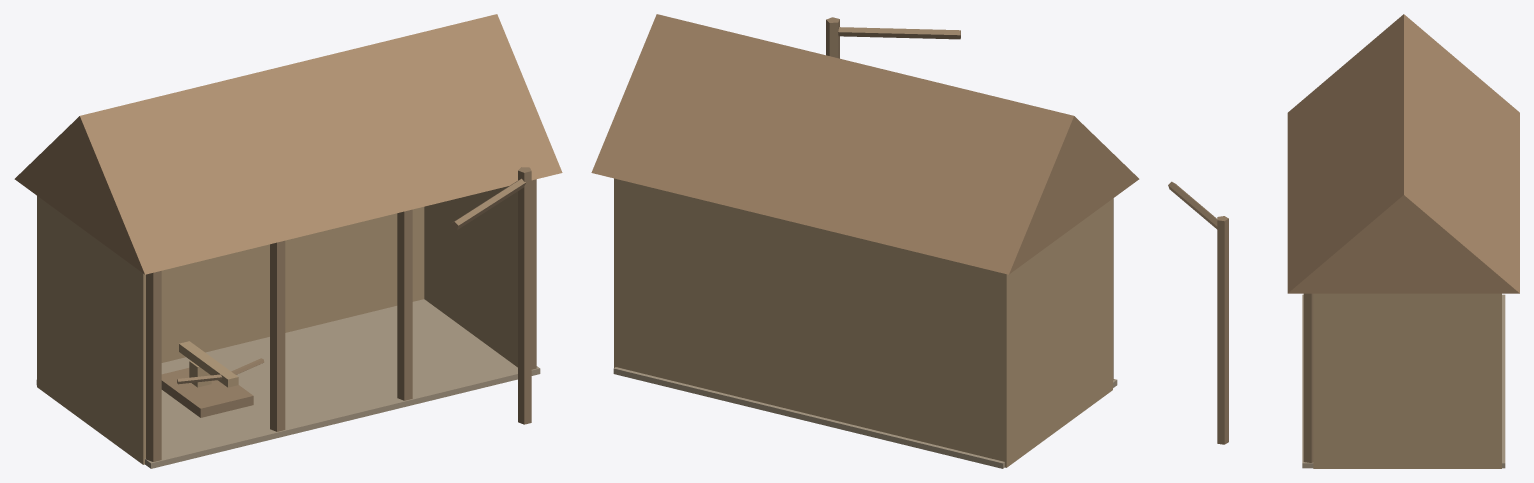
3 renders of one model, left to right at view 1: azimuth 30°, elevation 25°; view 2: azimuth 150°, elevation 25°; view 3: azimuth 270°, elevation 25°, orthographic. The views are drawn at different scales.
Visible parts, largest first — view 1: body, ws_crossbow; view 2: body; view 3: body.
Boxes of the visible parts, left/top/right/bottom form: body: left=14, top=14, right=562, bottom=468; ws_crossbow: left=177, top=341, right=264, bottom=387; body: left=591, top=14, right=1139, bottom=468; body: left=1168, top=14, right=1519, bottom=468.
Bounding box in the file's own units: 11.8 × 8.5 × 9.7.
